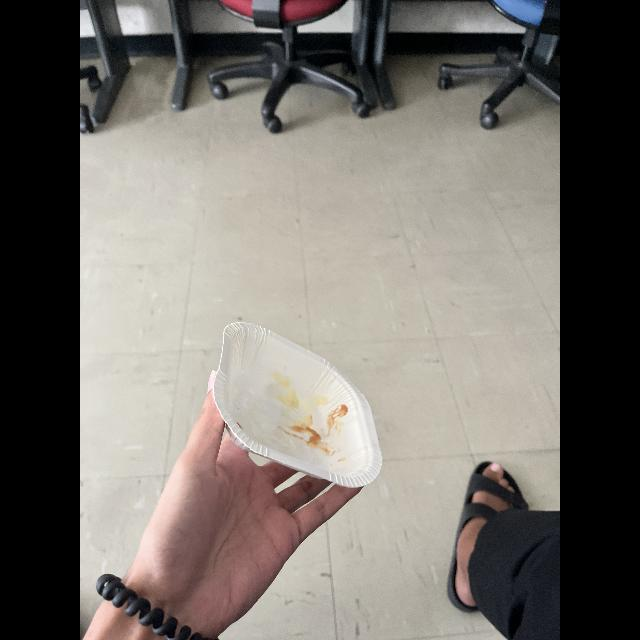cardboard_bowl: (210, 319, 388, 493)
